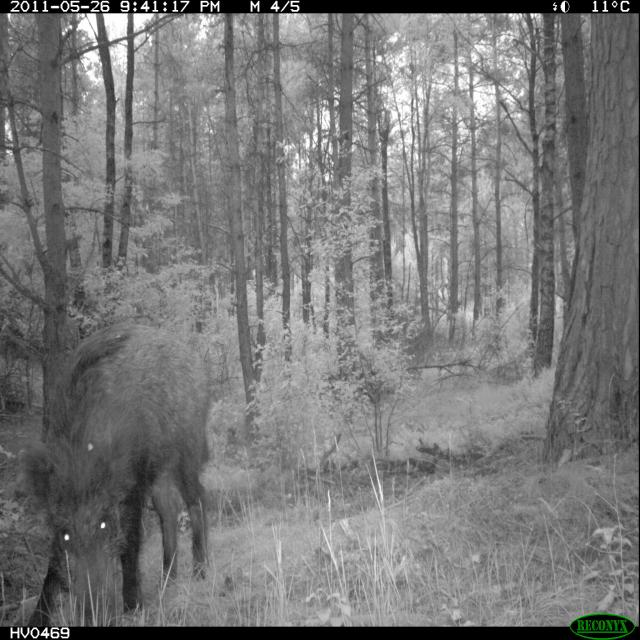boar: (5, 290, 254, 616)
